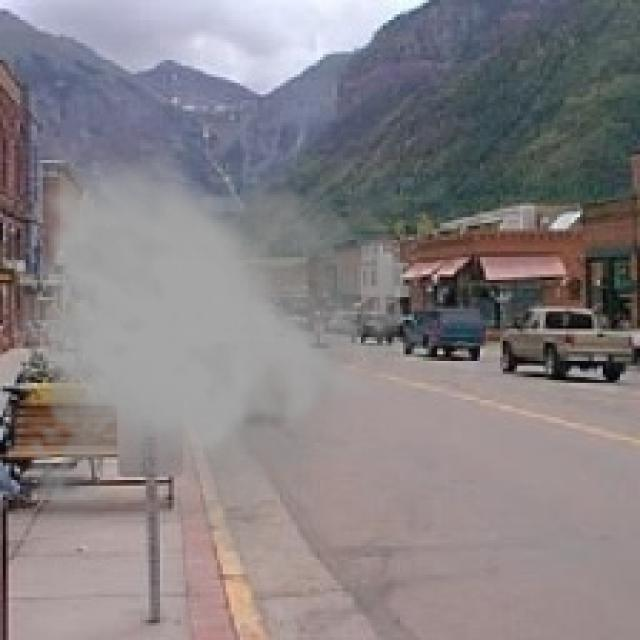smoke: (14, 137, 412, 552)
